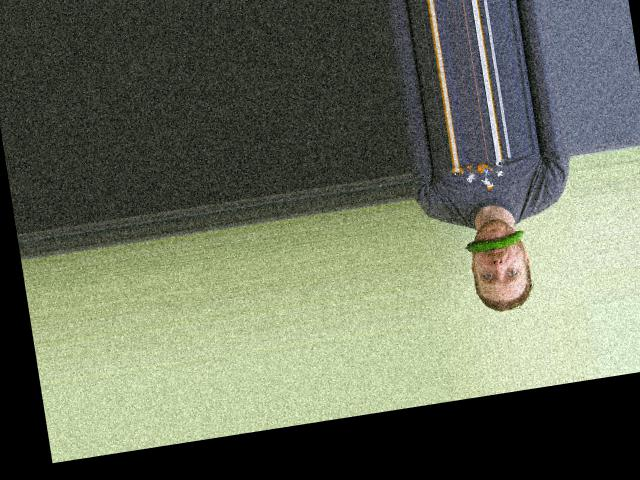cucumber: (463, 229, 526, 253)
